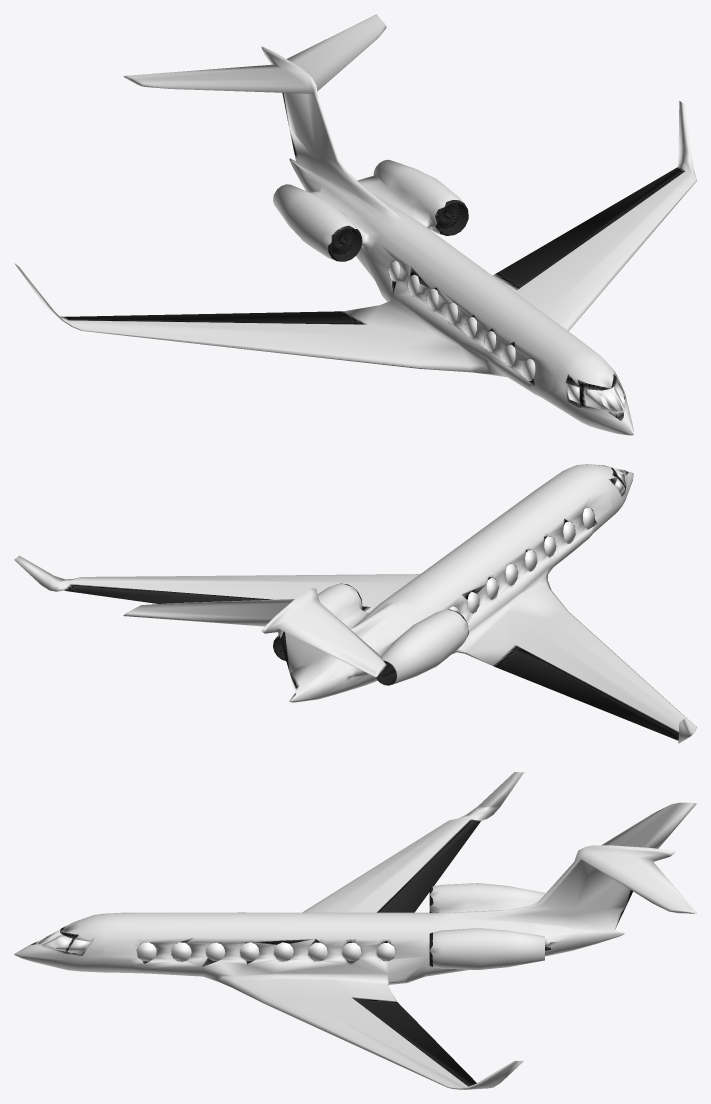
Rendered from jet.glb.
3 renders of one model, top to bottom at view 1: azimuth 30°, elevation 25°; view 2: azimuth 150°, elevation 25°; view 3: azimuth 270°, elevation 25°, orthographic. The views are drawn at different scales.
Parts seen in each view (by area): view 1: business_jet; view 2: business_jet; view 3: business_jet.
Boxes of the visible parts, left/top/right/bottom form: business_jet: left=14, top=14, right=696, bottom=435; business_jet: left=14, top=464, right=696, bottom=743; business_jet: left=14, top=772, right=696, bottom=1089.
Size of the model in its own units: 35.7 by 7.92 by 35.71.
2 materials, 2 textured.
